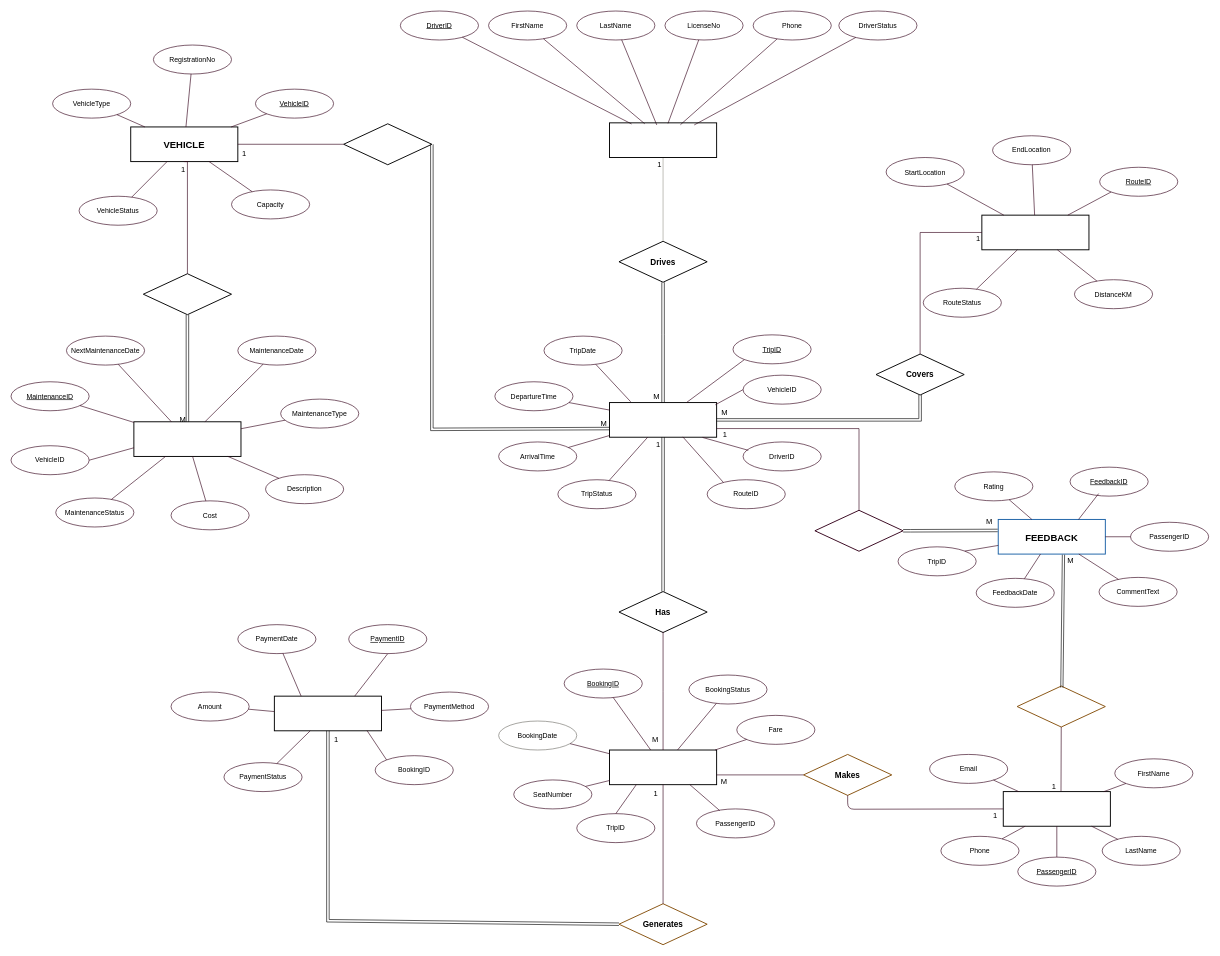
Some shapes in this 1220 by 956 pixel diagram are drawn without their labels. The centre of each missing label's shape, as x and y in pixels:
"BOOKING" belongs at pixel 663 767.
"DRIVER" belongs at pixel 663 140.
"Gives" belongs at pixel 1061 706.
"MAINTENANCE" belongs at pixel 187 439.
"PASSENGER" belongs at pixel 1057 808.
"PAYMENT" belongs at pixel 328 713.
"Receives" belongs at pixel 858 530.
"ROUTE" belongs at pixel 1035 232.
"TRIP" belongs at pixel 663 419.
"Undergoes" belongs at pixel 187 294.
"Uses" belongs at pixel 387 144.
